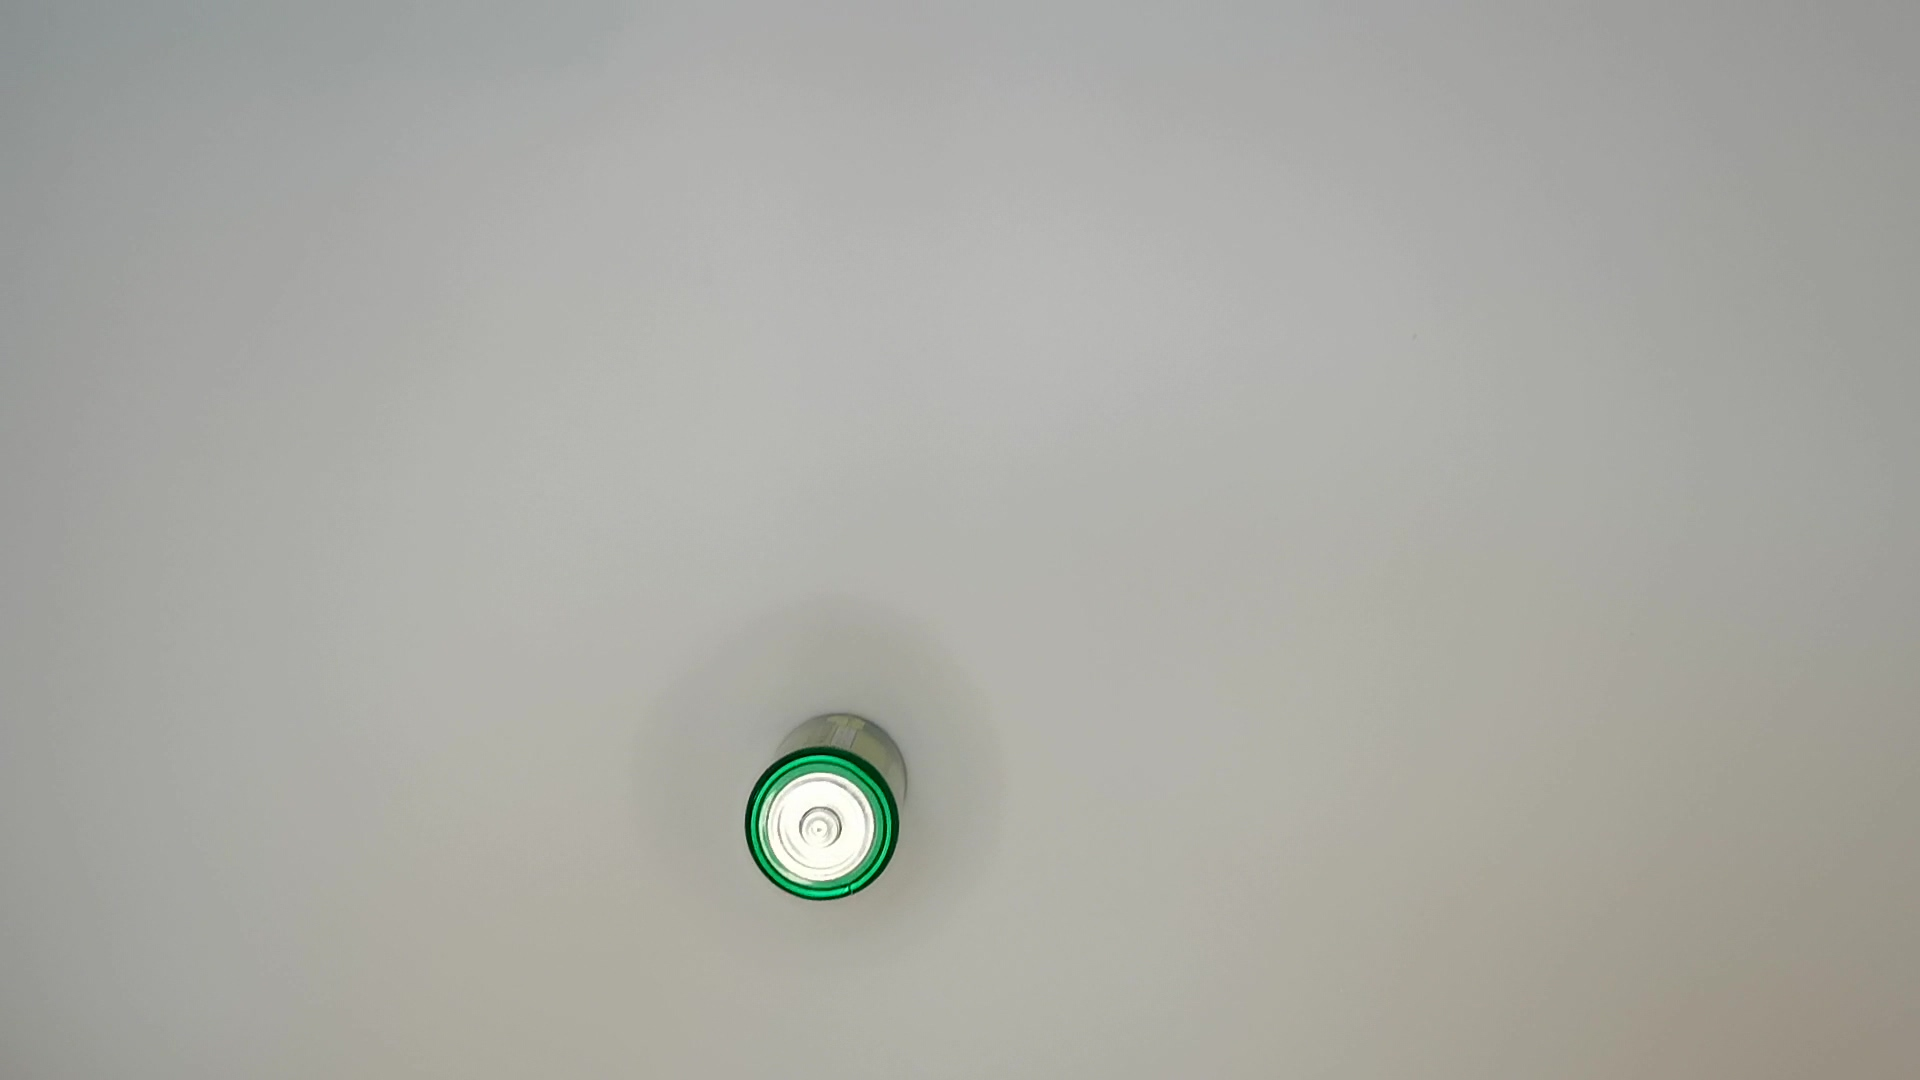battery: (737, 705, 922, 909)
